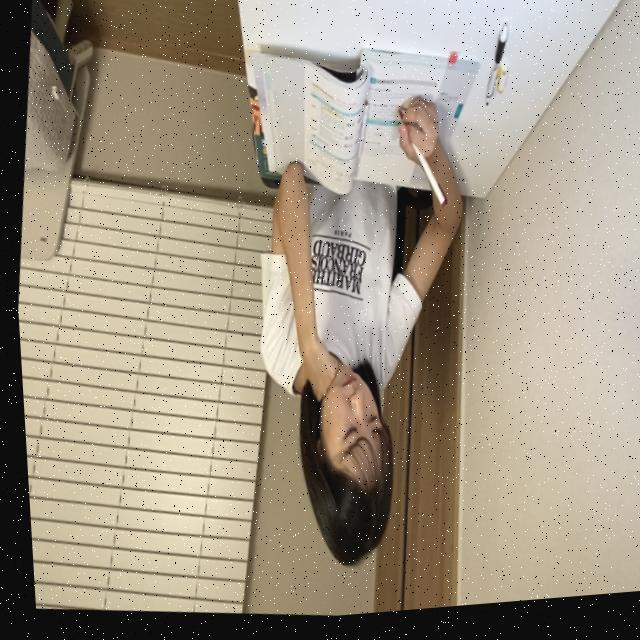studying-person: (187, 17, 505, 611)
